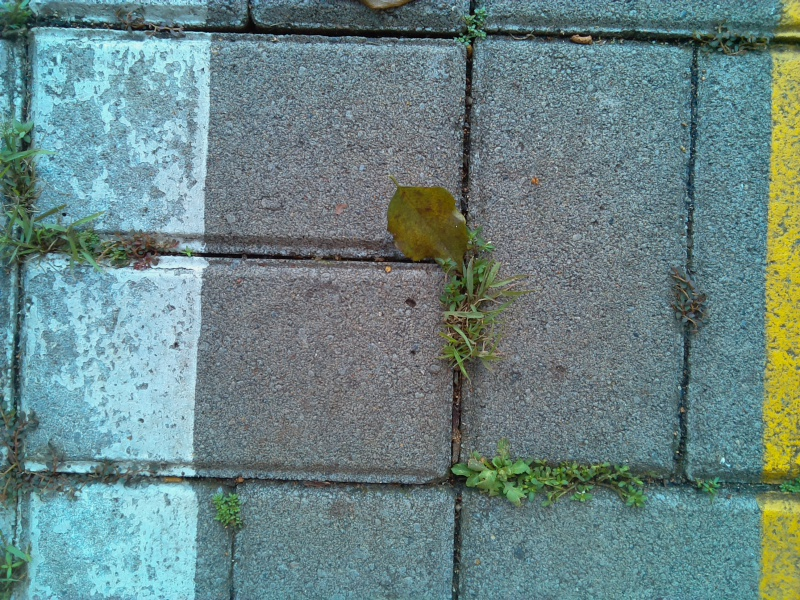Weed: (3, 415, 146, 507), (431, 251, 506, 390), (526, 455, 651, 515), (2, 112, 62, 206), (12, 204, 100, 268), (449, 444, 532, 508), (662, 261, 717, 346), (100, 224, 172, 282), (105, 4, 186, 51), (698, 16, 774, 66), (446, 7, 501, 57), (206, 487, 256, 538), (452, 220, 501, 254), (1, 539, 32, 588), (695, 472, 733, 508), (775, 470, 800, 502)
